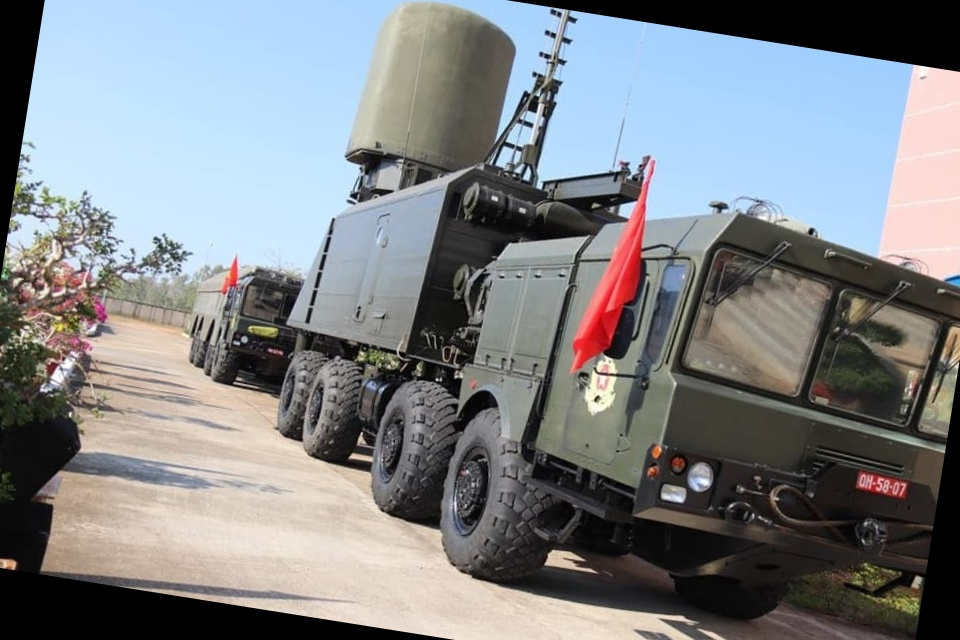plate: (851, 465, 906, 506)
